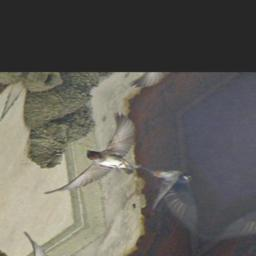Swallow: (41, 102, 167, 216)
